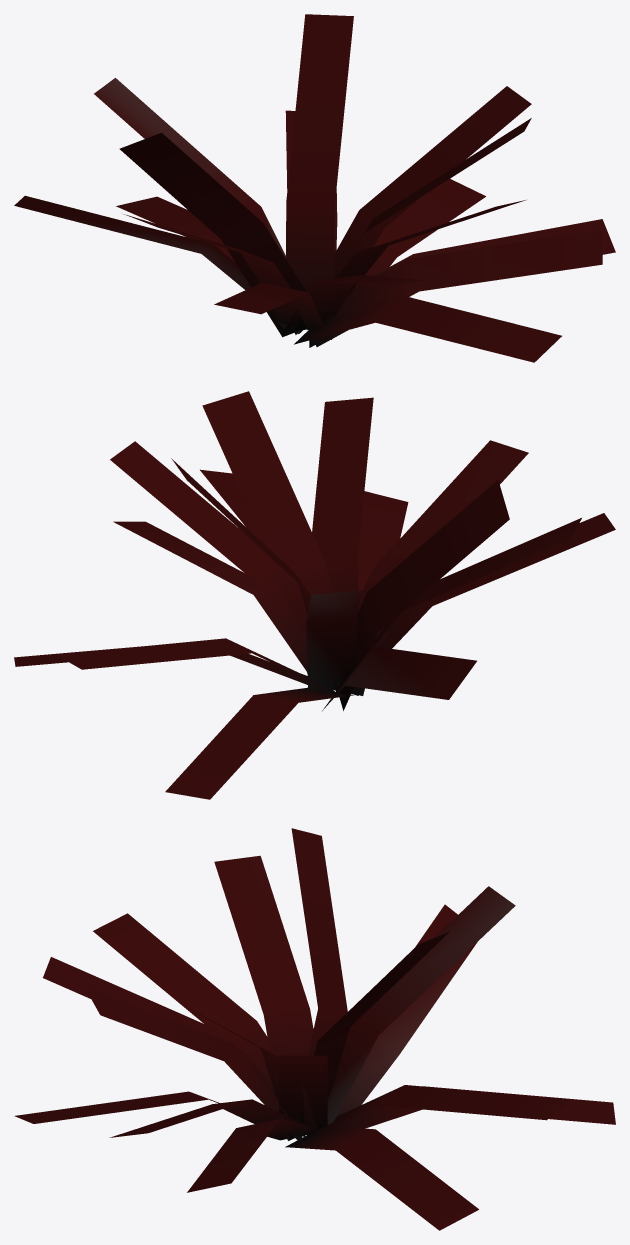
The model's file is 5_Weed 1.fbx.
3 renders of one model, top to bottom at view 1: azimuth 30°, elevation 25°; view 2: azimuth 150°, elevation 25°; view 3: azimuth 270°, elevation 25°, orthographic. The views are drawn at different scales.
Parts seen in each view (by area): view 1: 5_Weed.003; view 2: 5_Weed.003; view 3: 5_Weed.003.
Part boxes in pixels (x1=…): 5_Weed.003: x1=14, y1=14, x2=615, y2=362; 5_Weed.003: x1=14, y1=391, x2=615, y2=799; 5_Weed.003: x1=14, y1=828, x2=615, y2=1230.
Bounding box in the file's own units: 132 × 70.1 × 151.
